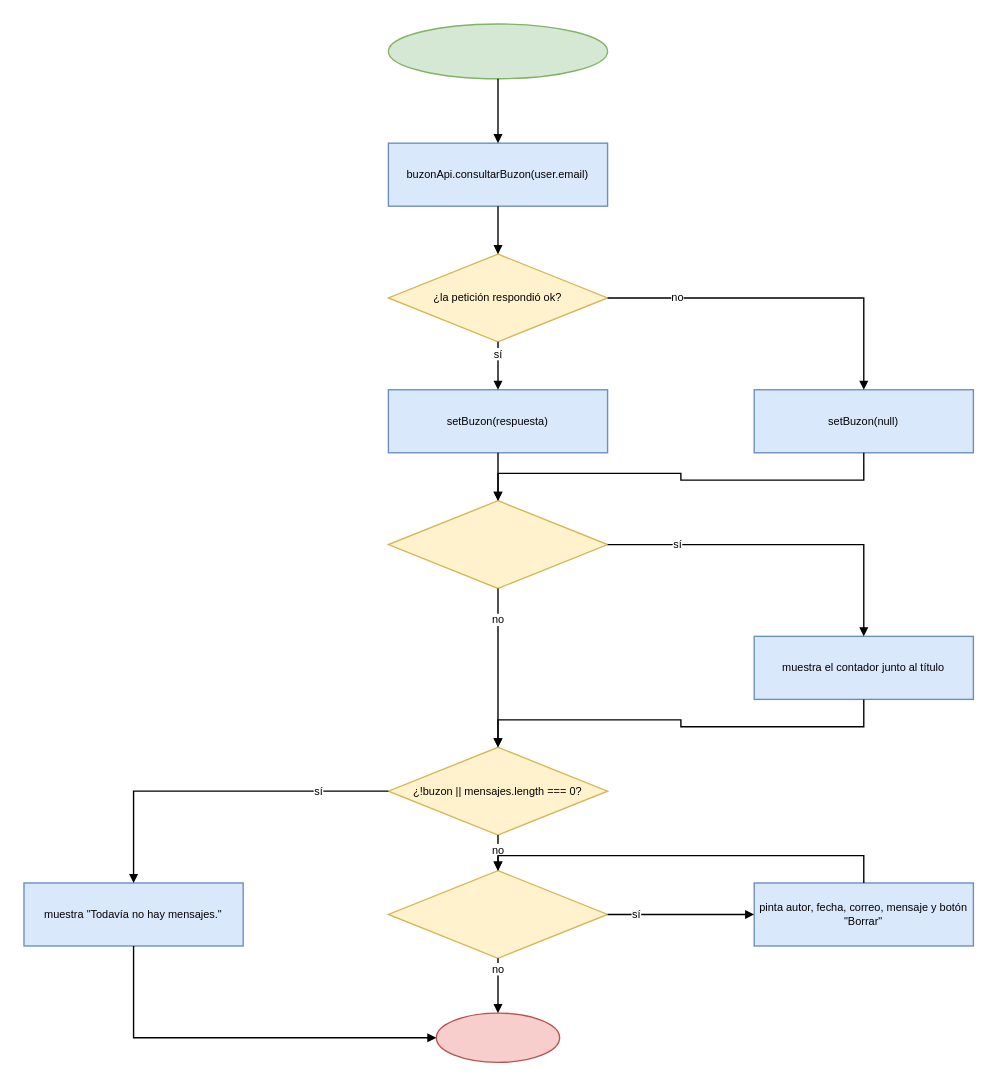
Image size: 997x1086. Some labels were removed from this diagram. Each missing label, with the centre of its shape:
fin: point (497, 1037)
inicio: se abre "Usuarios" (cargar): point (497, 51)
¿buzon?.total > 0?: point (497, 543)
¿quedan mensajes por pintar?: point (497, 913)
